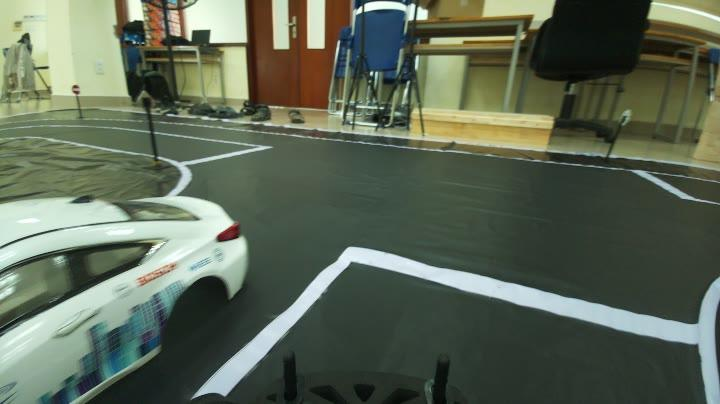car: (3, 192, 257, 384)
